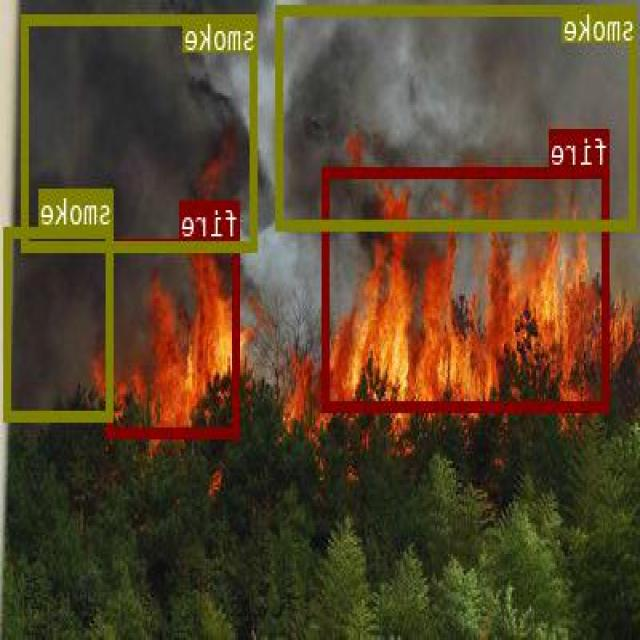fire: (324, 167, 610, 410), (108, 238, 240, 436)
smoke: (278, 2, 638, 228), (23, 14, 258, 250), (6, 226, 114, 420)
